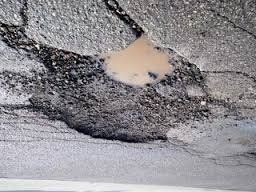pothole: (28, 34, 214, 149)
